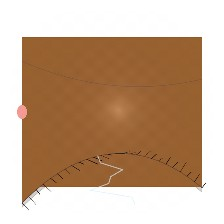foreign_body_visible: (27, 86, 73, 124)
